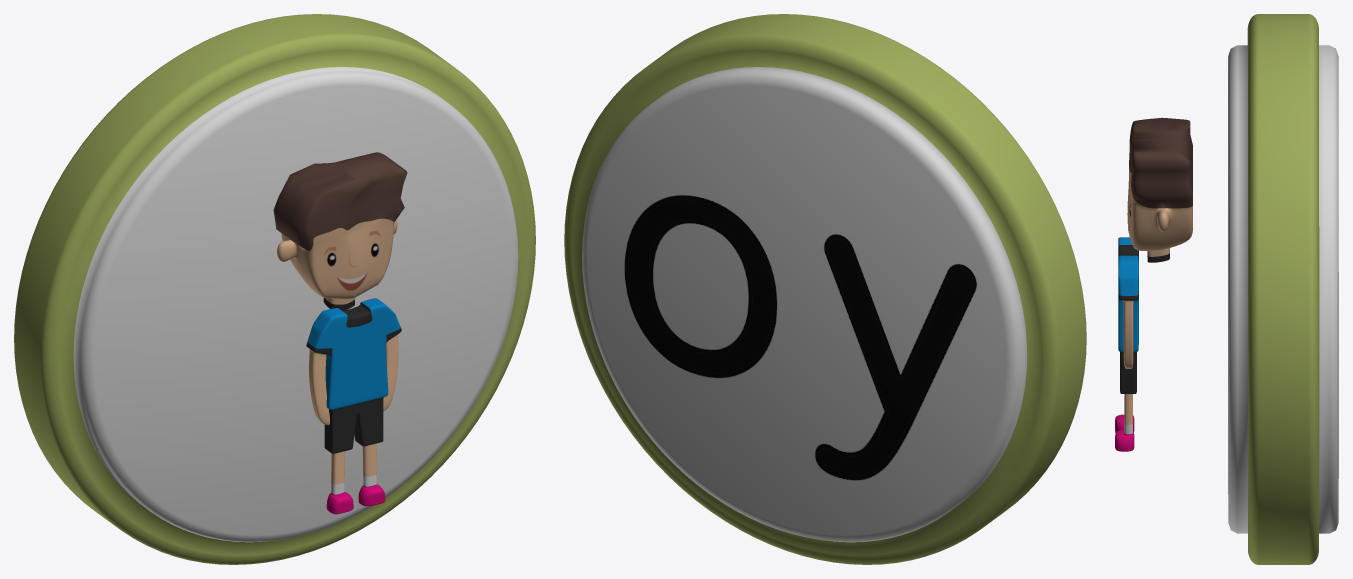
Rendered from boy4.gltf.
The picture shows the model from 3 angles, left to right: view 1: azimuth 30°, elevation 25°; view 2: azimuth 150°, elevation 25°; view 3: azimuth 270°, elevation 25°; orthographic projection. The views are drawn at different scales.
Visible parts, largest first — view 1: coin, face.003, Cube.000; view 2: coin; view 3: coin, face.003, Cube.000.
Part boxes in pixels (x1,y1,x2,y2): coin: [14, 14, 535, 564]; face.003: [273, 152, 407, 310]; Cube.000: [306, 298, 401, 514]; coin: [564, 14, 1086, 564]; coin: [1228, 14, 1338, 564]; face.003: [1127, 117, 1192, 262]; Cube.000: [1115, 237, 1138, 451].
Bounding box in the file's own units: 2.56 × 2.56 × 1.04.
11 materials, 2 textured.
